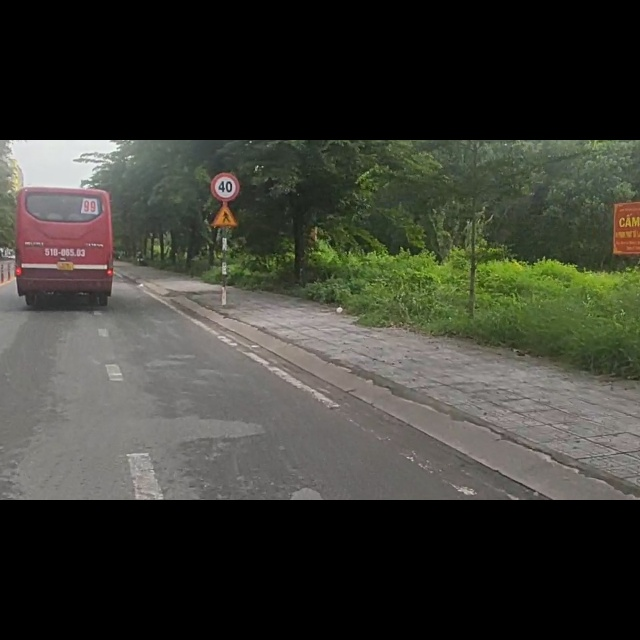bien_nguy_hiem: (211, 55, 240, 109), (211, 114, 239, 156)
